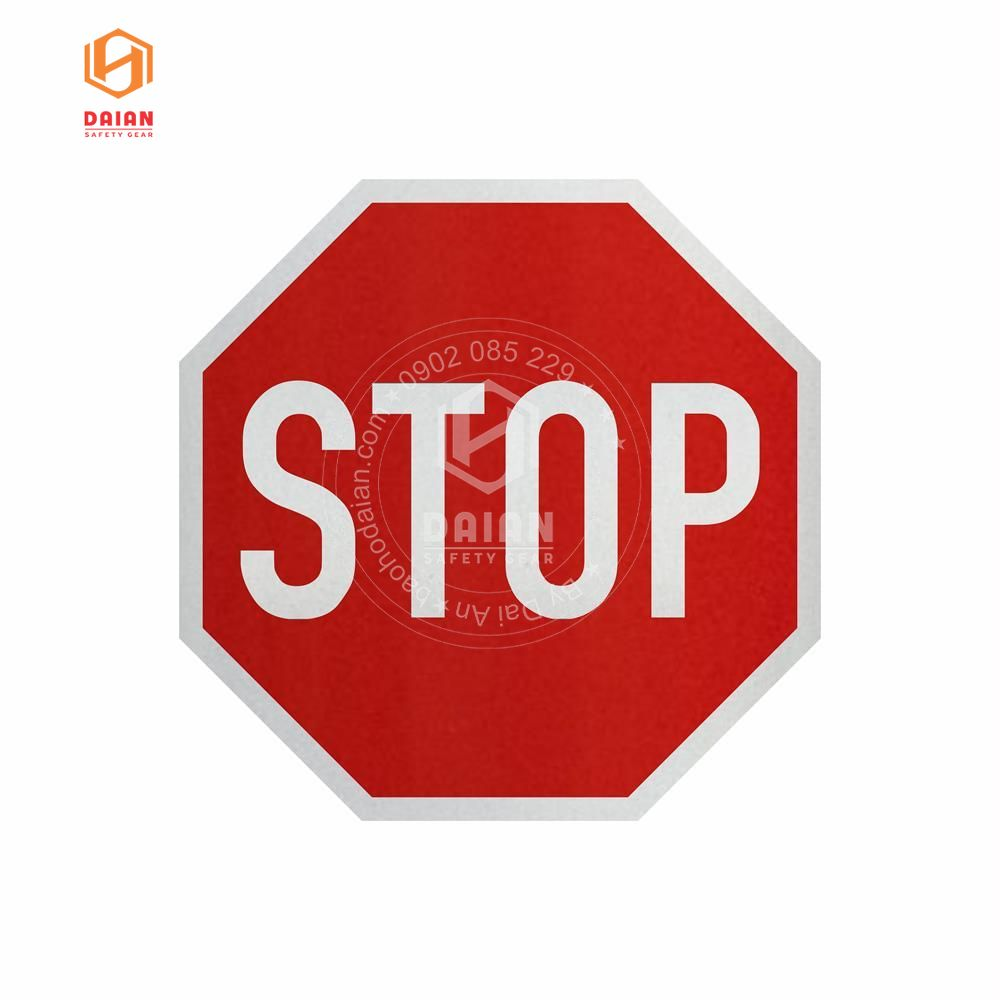Stop: (166, 169, 842, 839)
